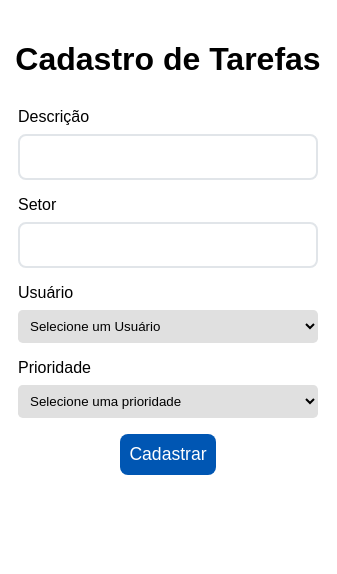
Cadastro de Tarefas › deve exibir erros ao preencher apenas o campo prioridade
The width and height of the screenshot is (337, 574).
Select "Alta" in the dropdown labelled "Prioridade" at (168, 402), box [18, 385, 318, 418]
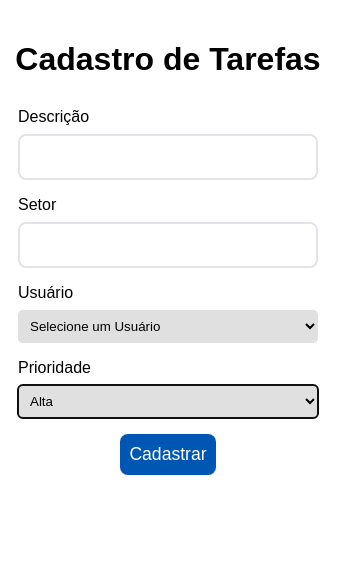
Click the button "Cadastrar".
click(168, 454)  # box [120, 434, 216, 475]
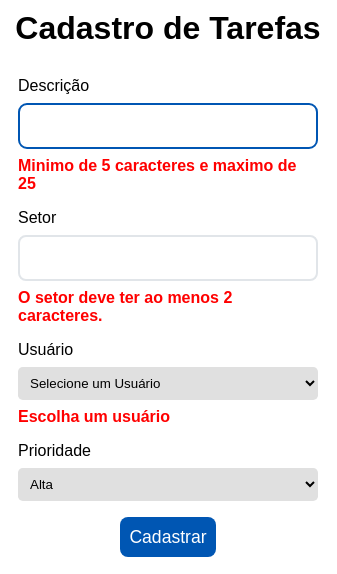
Check: the text "Minimo de 5 caracteres e maximo de 25" is shown, box [18, 157, 318, 193]
Check: the text "O setor deve ter ao menos 2 caracteres." is shown, box [18, 289, 232, 324]
Check: the text "Escolha um usuário" is shown, box [18, 408, 170, 425]
